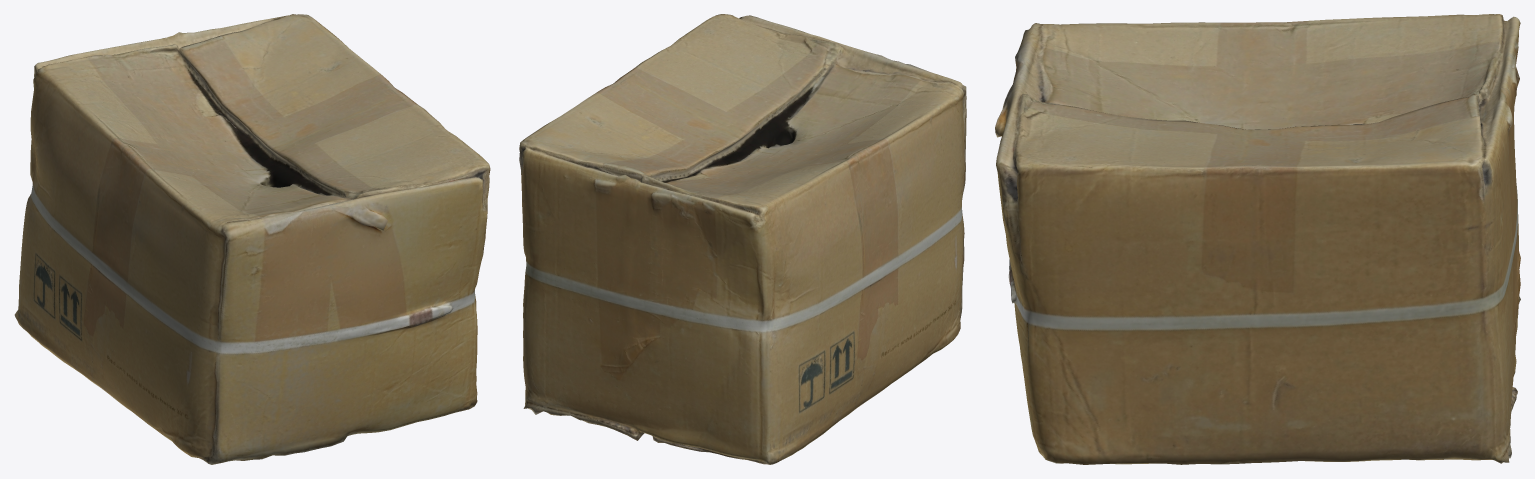
The model's file is cardboard_box_01_1k.glb.
3 renders of one model, left to right at view 1: azimuth 30°, elevation 25°; view 2: azimuth 150°, elevation 25°; view 3: azimuth 270°, elevation 25°, orthographic. The views are drawn at different scales.
Visible parts, largest first — view 1: cardboard_box_01; view 2: cardboard_box_01; view 3: cardboard_box_01.
Boxes of the visible parts, x1,y1,x2,y2 form: cardboard_box_01: [14, 14, 490, 464]; cardboard_box_01: [519, 14, 966, 464]; cardboard_box_01: [995, 14, 1520, 464].
Bounding box in the file's own units: 0.387 × 0.3418 × 0.5159.
1 material, 1 textured.
